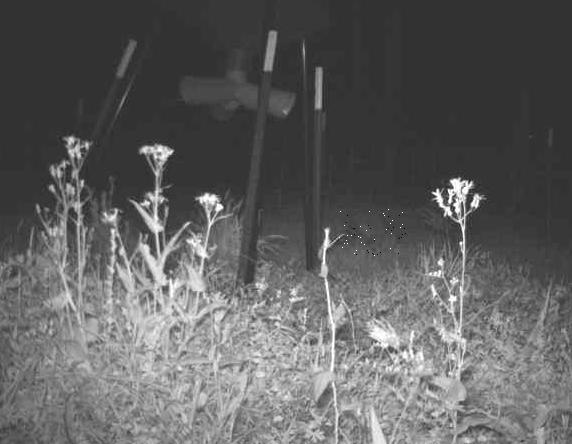Raccoon: (337, 210, 407, 257)
